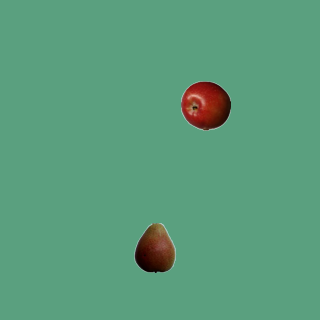Apple Braeburn: (180, 80, 230, 130)
Pear Forelle: (129, 222, 179, 272)
